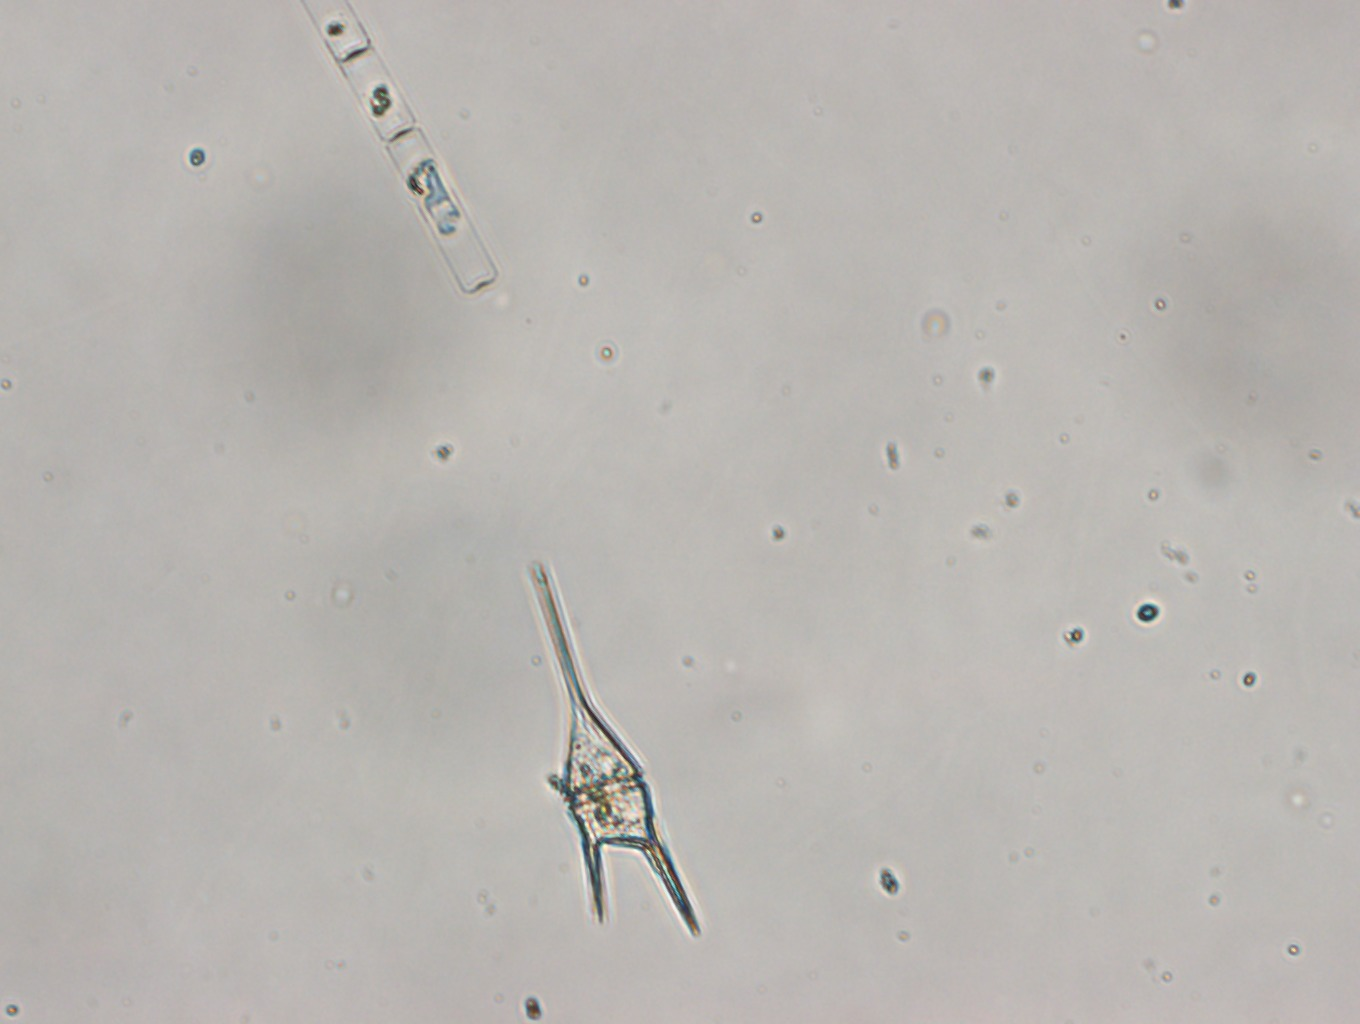ceratium furca: (530, 561, 703, 940)
